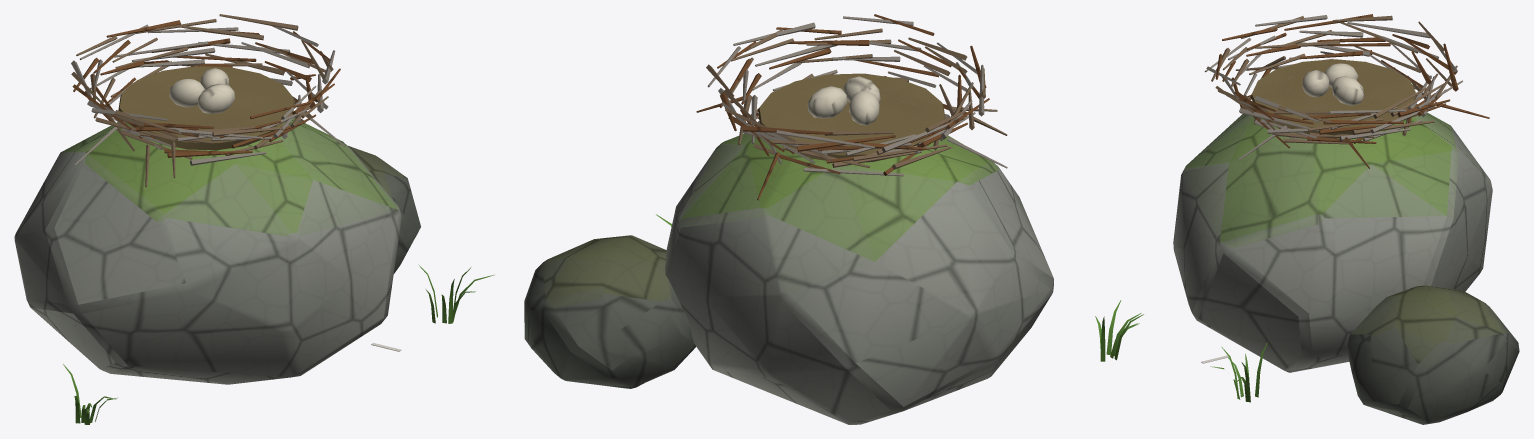
File: bird_nest_big.glb
3 renders of one model, left to right at view 1: azimuth 30°, elevation 25°; view 2: azimuth 150°, elevation 25°; view 3: azimuth 270°, elevation 25°, orthographic. The views are drawn at different scales.
Visible parts, largest first — view 1: bird_nest_big; view 2: bird_nest_big; view 3: bird_nest_big.
Boxes of the visible parts, x1=… form: bird_nest_big: x1=14, y1=14, x2=494, y2=424; bird_nest_big: x1=524, y1=14, x2=1143, y2=424; bird_nest_big: x1=1173, y1=14, x2=1519, y2=424.
Size of the model in its own units: 3.53 by 2.08 by 2.48.
9 materials, 9 textured.
